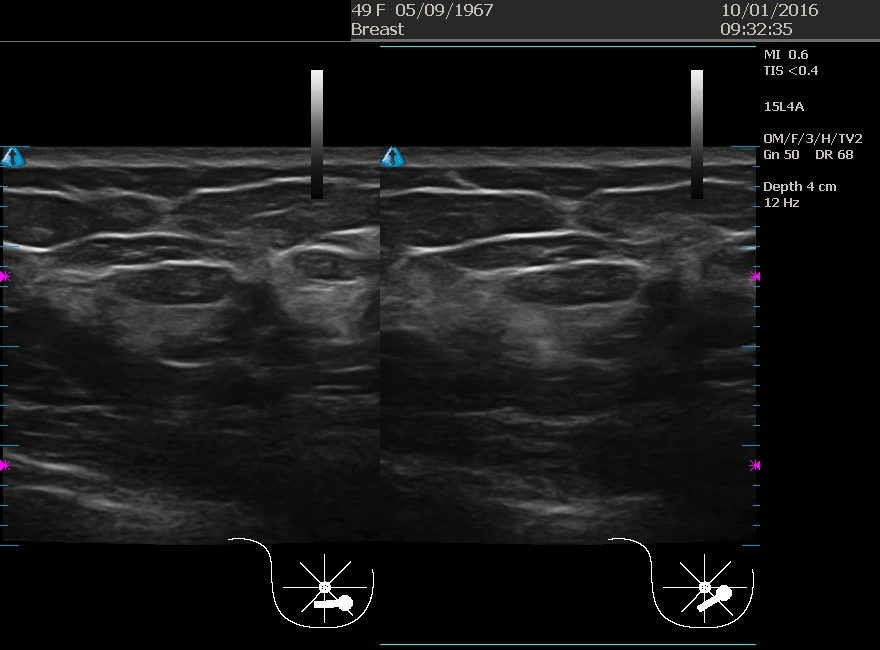Benign: (62, 190, 262, 390), (470, 185, 670, 385)
